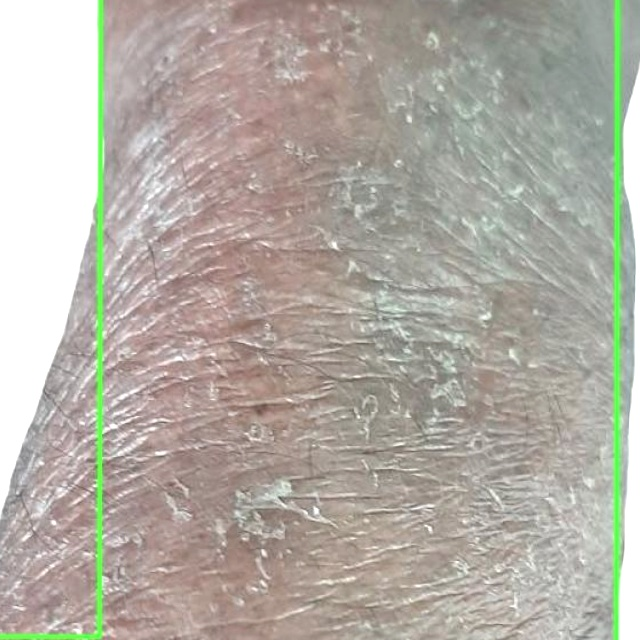Tinea Corporis: (0, 0, 101, 636)
